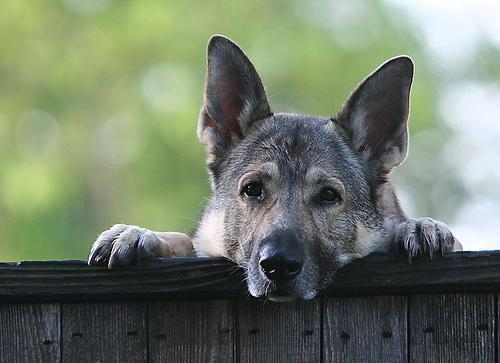German_shepherd: (83, 27, 472, 310)
